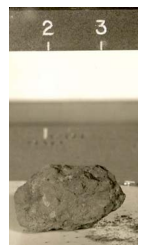Breccia: (11, 155, 128, 237)
